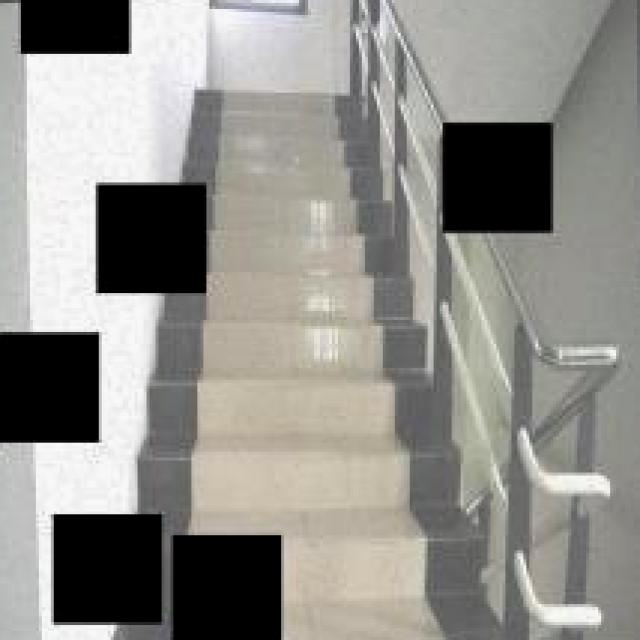upstair: (222, 73, 384, 506)
